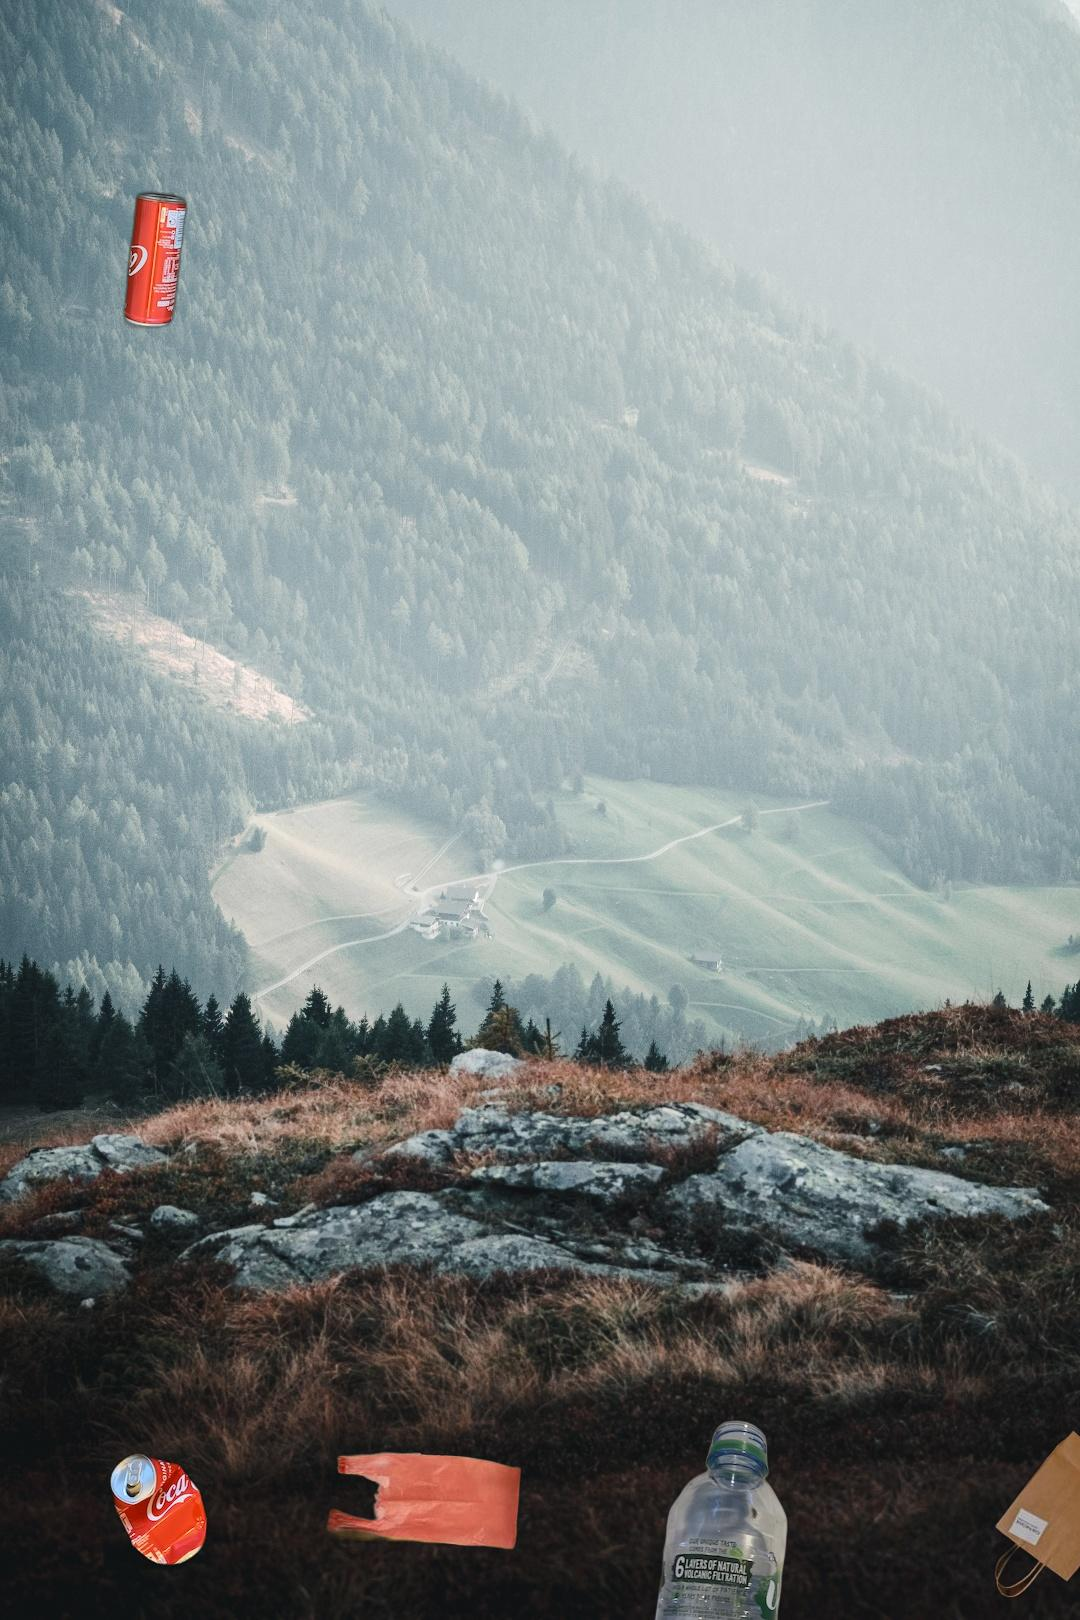metal-cans: (105, 1446, 211, 1571), (119, 187, 192, 333)
paper-bag: (992, 1427, 1080, 1600)
plastic-bag: (269, 1364, 569, 1620)
plastic-bottles: (628, 1417, 790, 1620)
